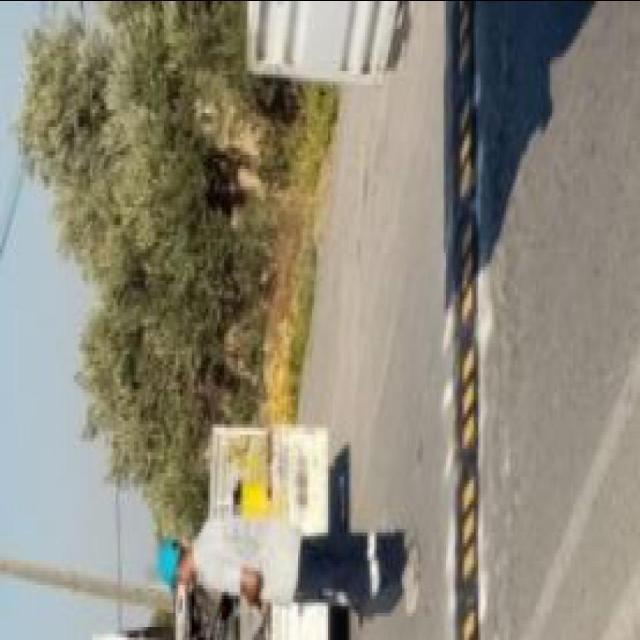Speed_Breaker: (438, 0, 495, 640), (446, 0, 479, 639)
